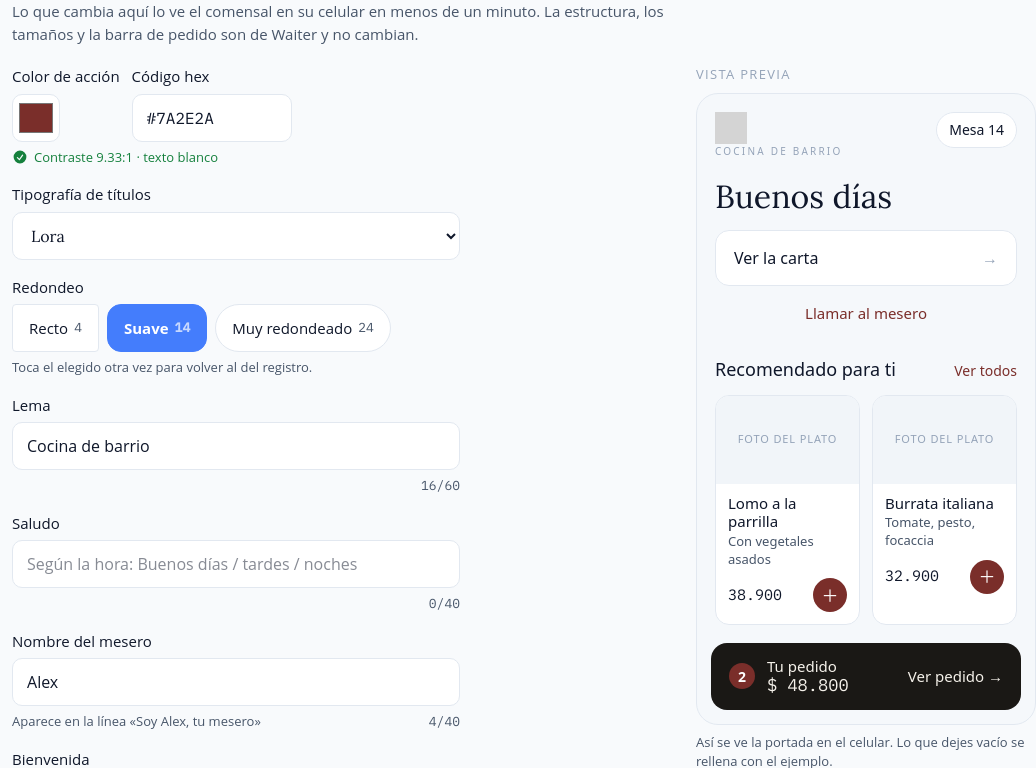
Scenario: saves the edited fields without touching the logo and confirms
Replace the text in the field labelled "Lema" with "Cocina de barrio E2E" at (236, 446), box x1=12 y1=422 x2=460 y2=470
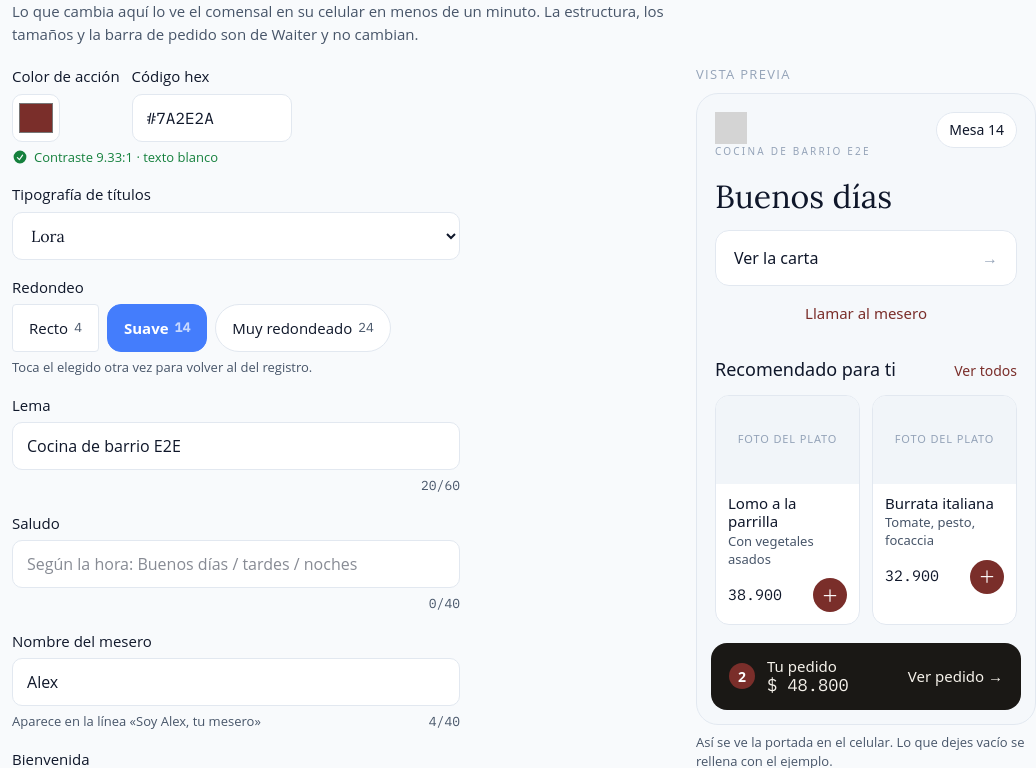
Click the button "Recto 4" at (56, 328), box x1=12 y1=304 x2=99 y2=352
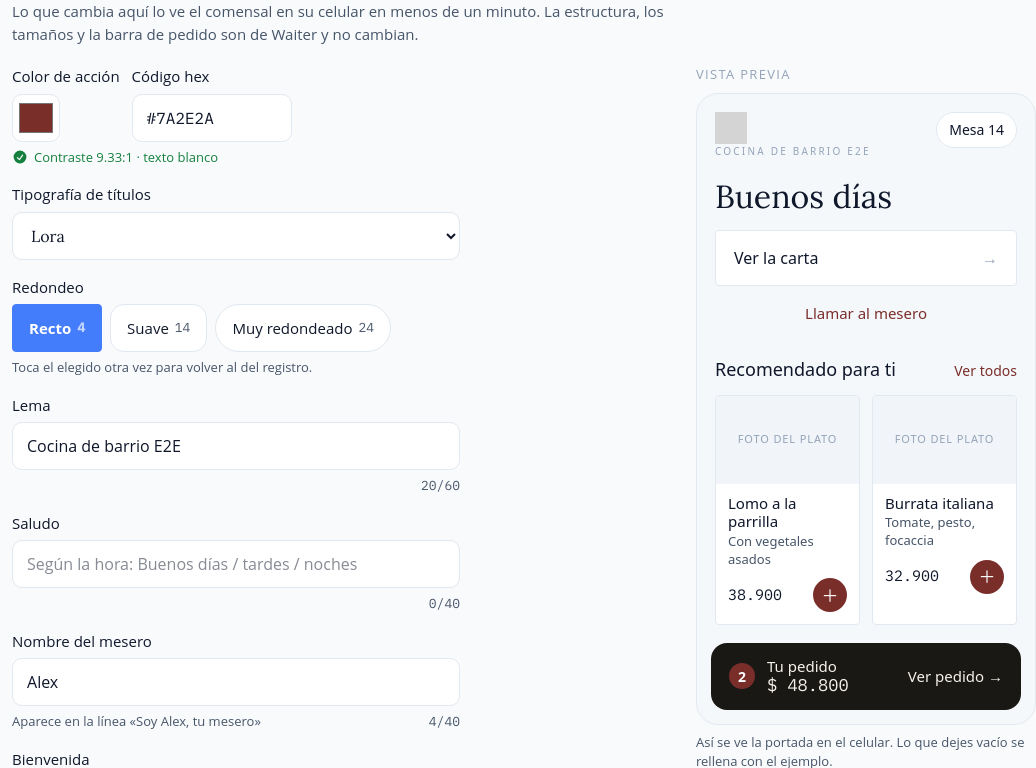
Select "Fraunces" in the dropdown labelled "Tipografía de títulos" at (236, 236), box x1=12 y1=212 x2=460 y2=260
(page scrolled)
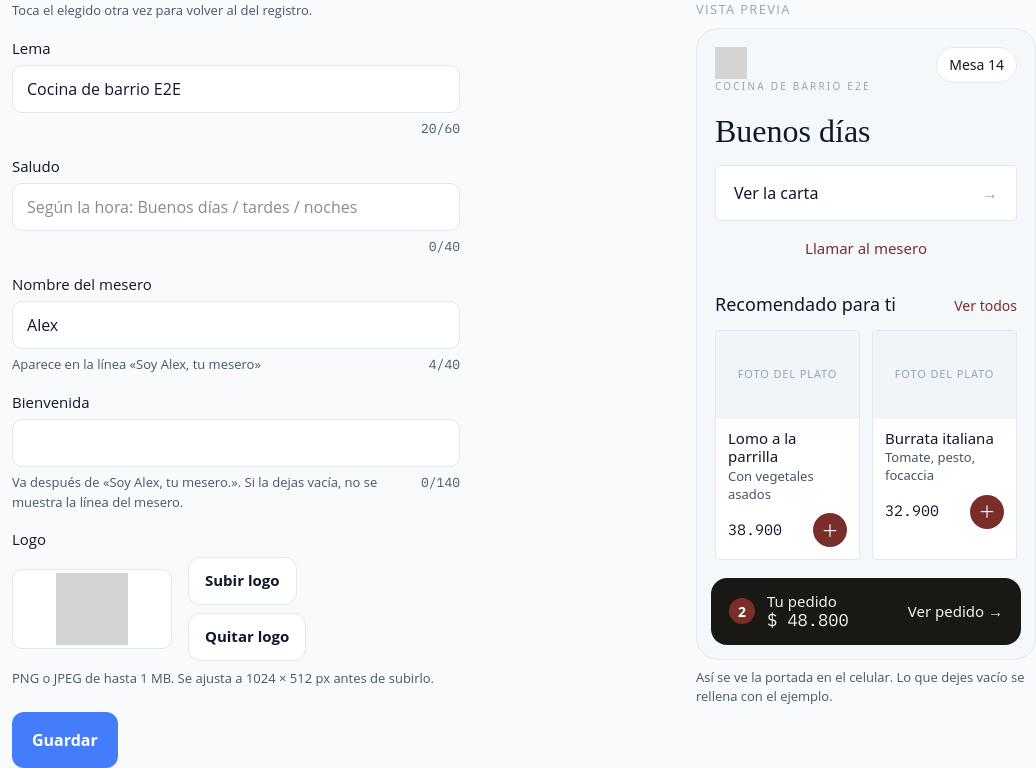
Click the button "Guardar" at (65, 740), box x1=12 y1=712 x2=118 y2=767
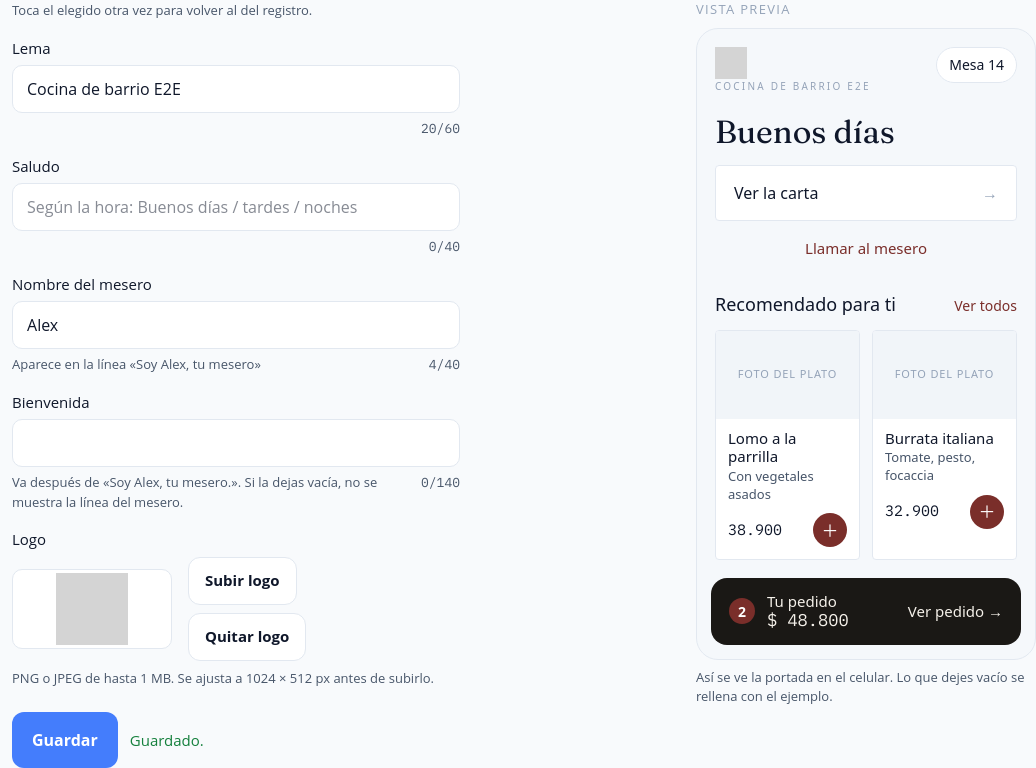
expect the message shows "Guardado": met, box x1=130 y1=730 x2=204 y2=750
